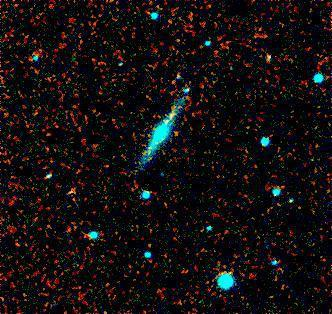star: (159, 97, 189, 127)
